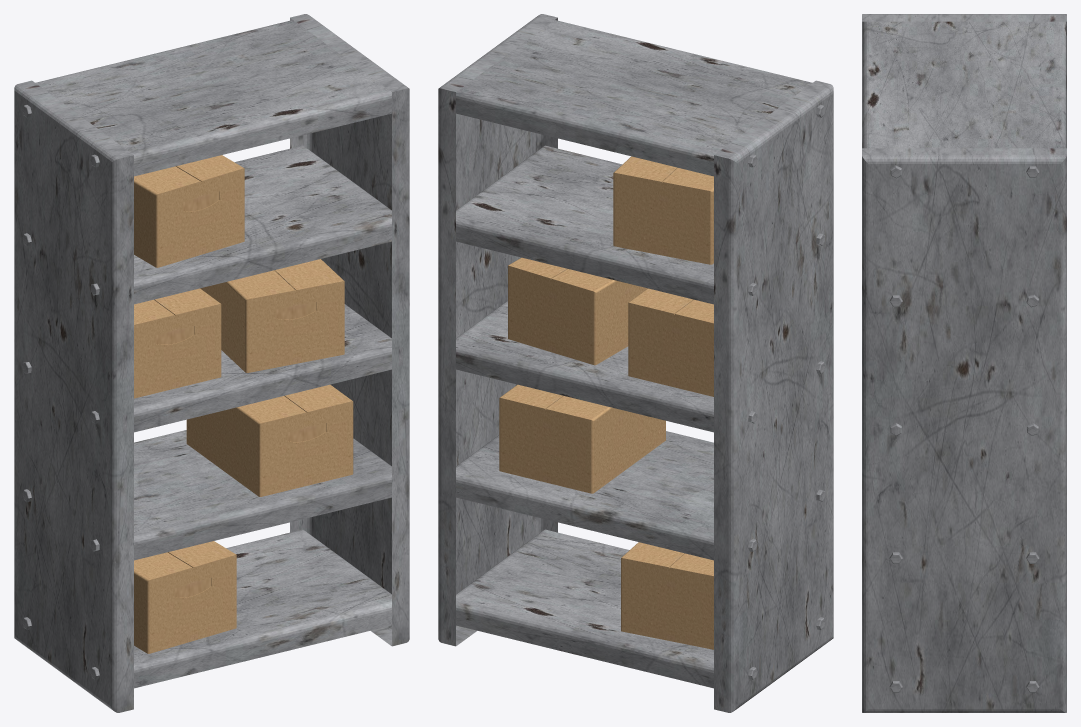
The model's file is estante.glb.
3 renders of one model, left to right at view 1: azimuth 30°, elevation 25°; view 2: azimuth 150°, elevation 25°; view 3: azimuth 270°, elevation 25°, orthographic.
Visible parts, largest first — view 1: Material2 (×14); view 2: Material2 (×14); view 3: Material2 (×3).
Part boxes in pixels (x1,y1,x2,y2): Material2 (×14): (14,14,409,712); Material2 (×14): (438,14,833,712); Material2 (×3): (862,14,1066,712).
Bounding box in the file's own units: 41.56 × 72 × 24.
3 materials, 2 textured.
